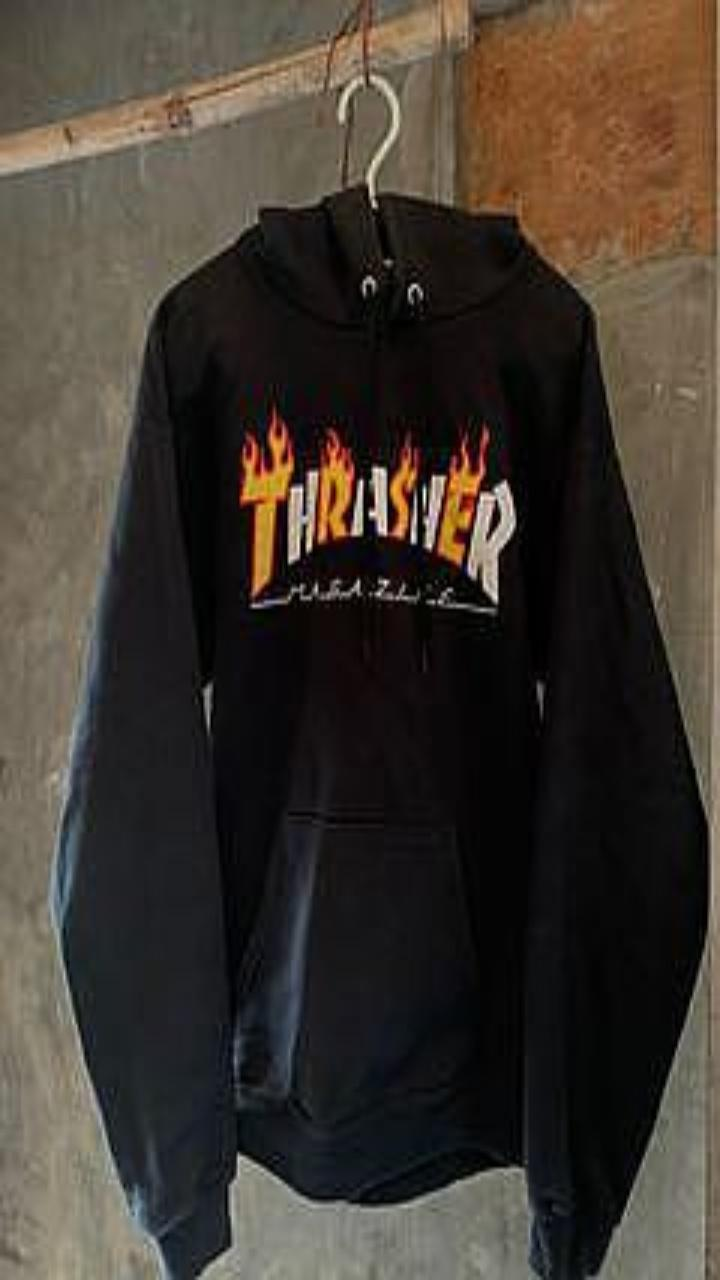Hoodie: (50, 183, 708, 1279)
